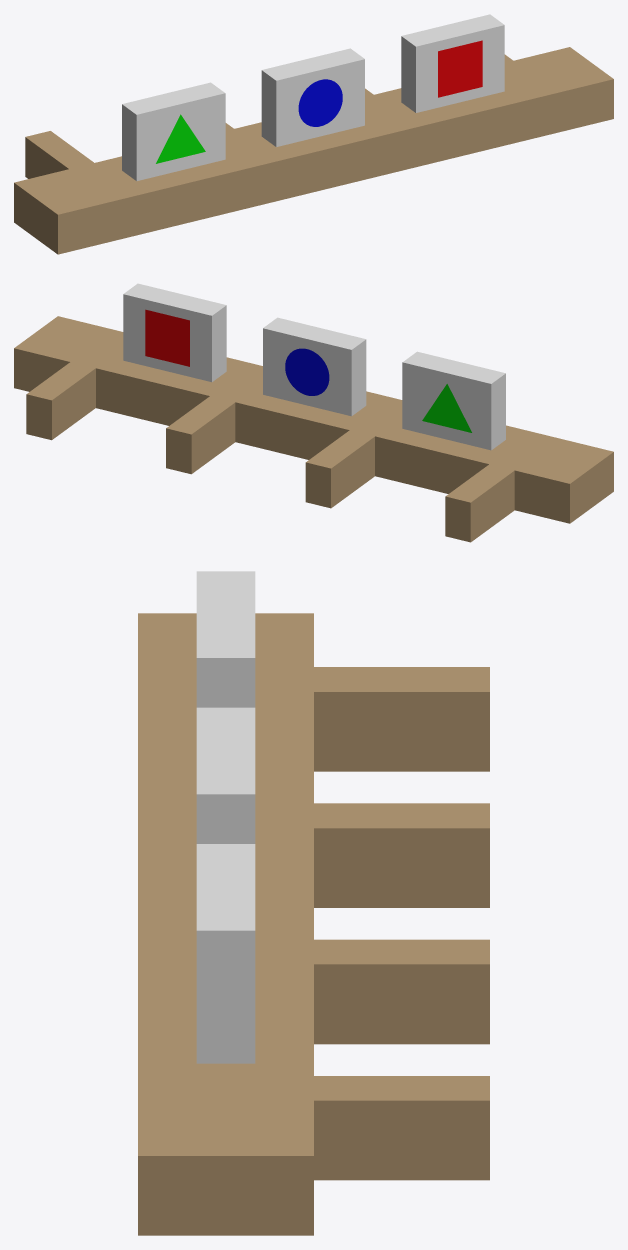
The model's file is ShowSeats.dae.
The picture shows the model from 3 angles, top to bottom: view 1: azimuth 30°, elevation 25°; view 2: azimuth 150°, elevation 25°; view 3: azimuth 270°, elevation 25°; orthographic projection. The views are drawn at different scales.
Visible parts, largest first — view 1: Cube.005; view 2: Cube.005; view 3: Cube.005.
Part boxes in pixels (<box>): Cube.005: <box>14,14,613,254</box>; Cube.005: <box>14,283,613,542</box>; Cube.005: <box>138,571,489,1235</box>.
Size of the model in its own units: 6.67 by 1.83 by 1.22.
